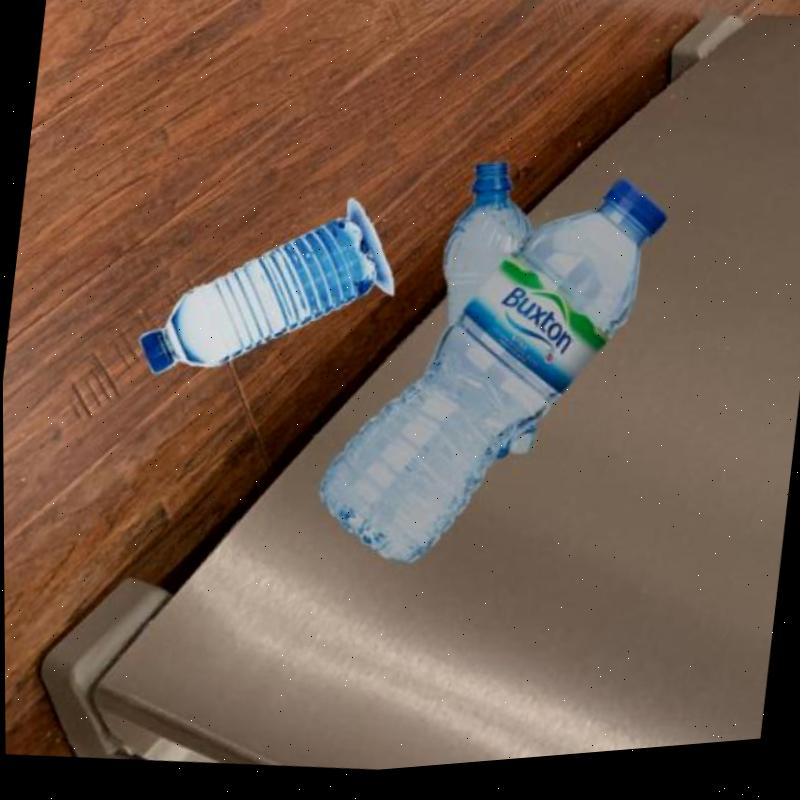botella: (309, 150, 677, 604), (133, 195, 387, 405), (418, 161, 564, 475)
